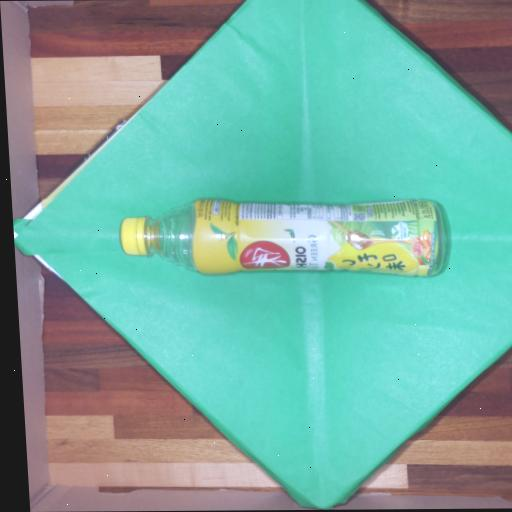bottle: (110, 185, 468, 292)
